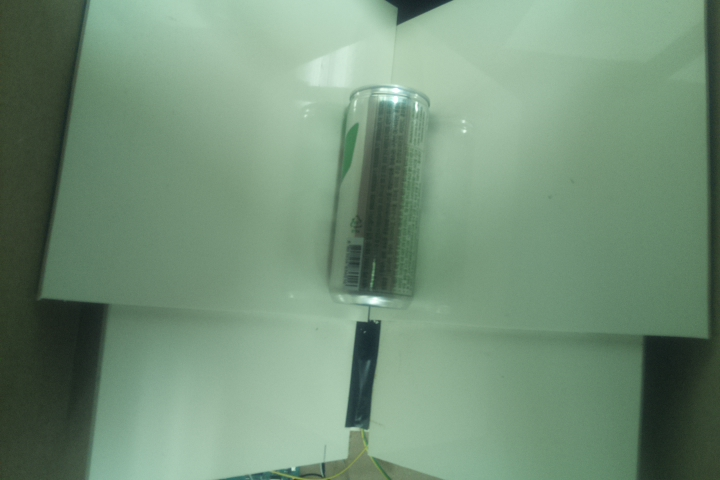can: (321, 80, 432, 309)
